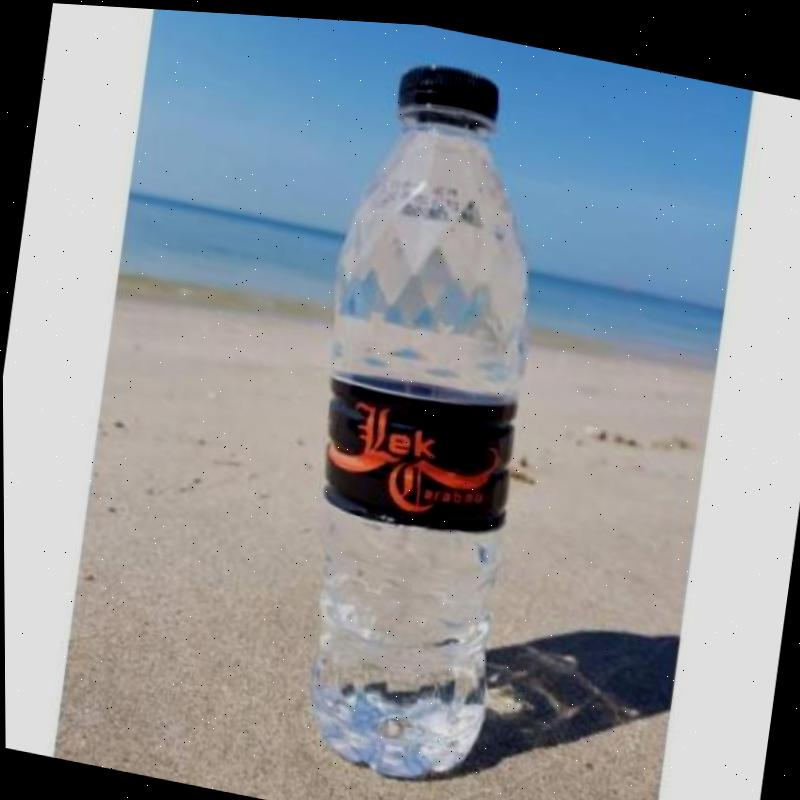botella: (264, 41, 573, 792)
